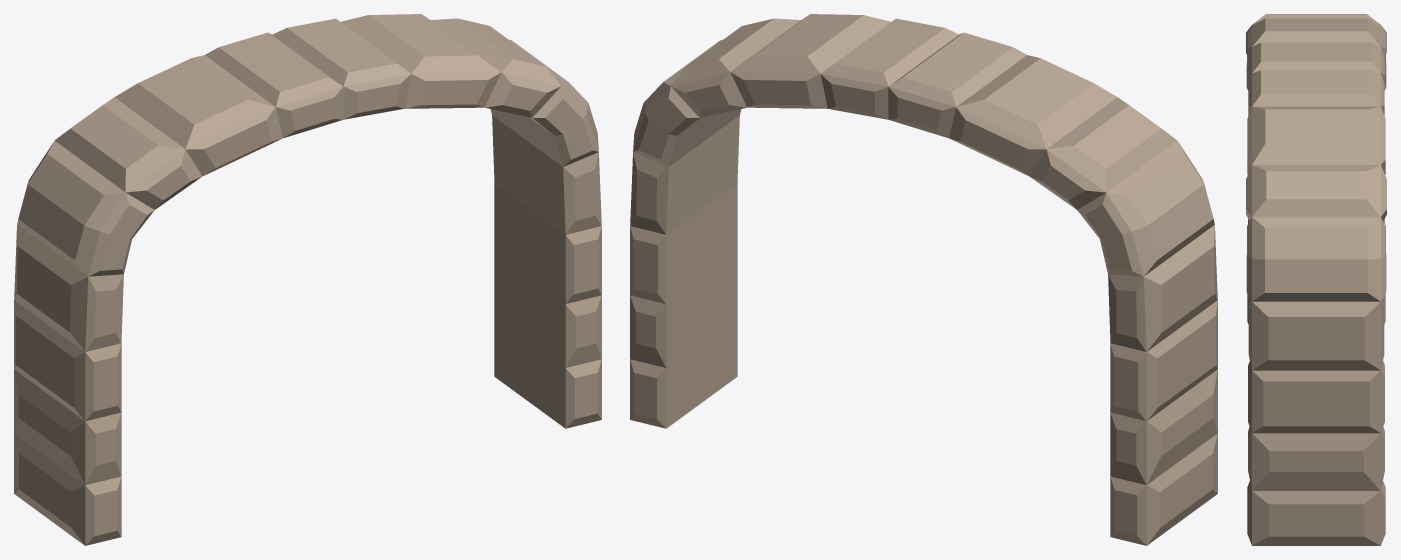
The model's file is BigStoneArc.fbx.
The picture shows the model from 3 angles, left to right: view 1: azimuth 30°, elevation 25°; view 2: azimuth 150°, elevation 25°; view 3: azimuth 270°, elevation 25°; orthographic projection. The views are drawn at different scales.
Parts seen in each view (by area): view 1: Border.003; view 2: Border.003; view 3: Border.003.
Part boxes in pixels (x1,y1,x2,y2): Border.003: (14,14,601,545); Border.003: (630,14,1217,545); Border.003: (1246,14,1386,545).
Bounding box in the file's own units: 4268 × 3119 × 1088.
